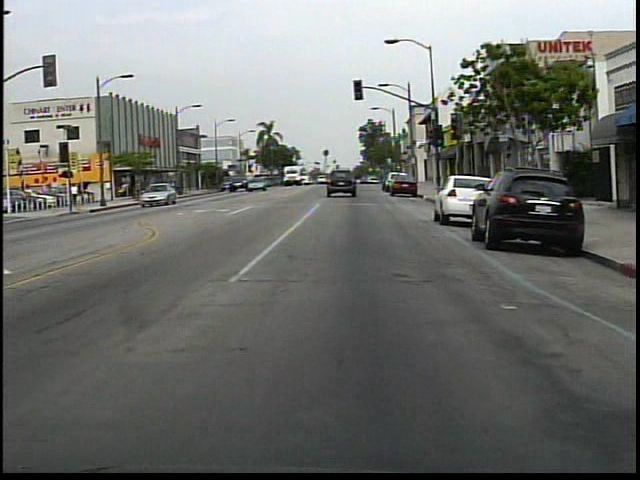person: (72, 181, 83, 208)
